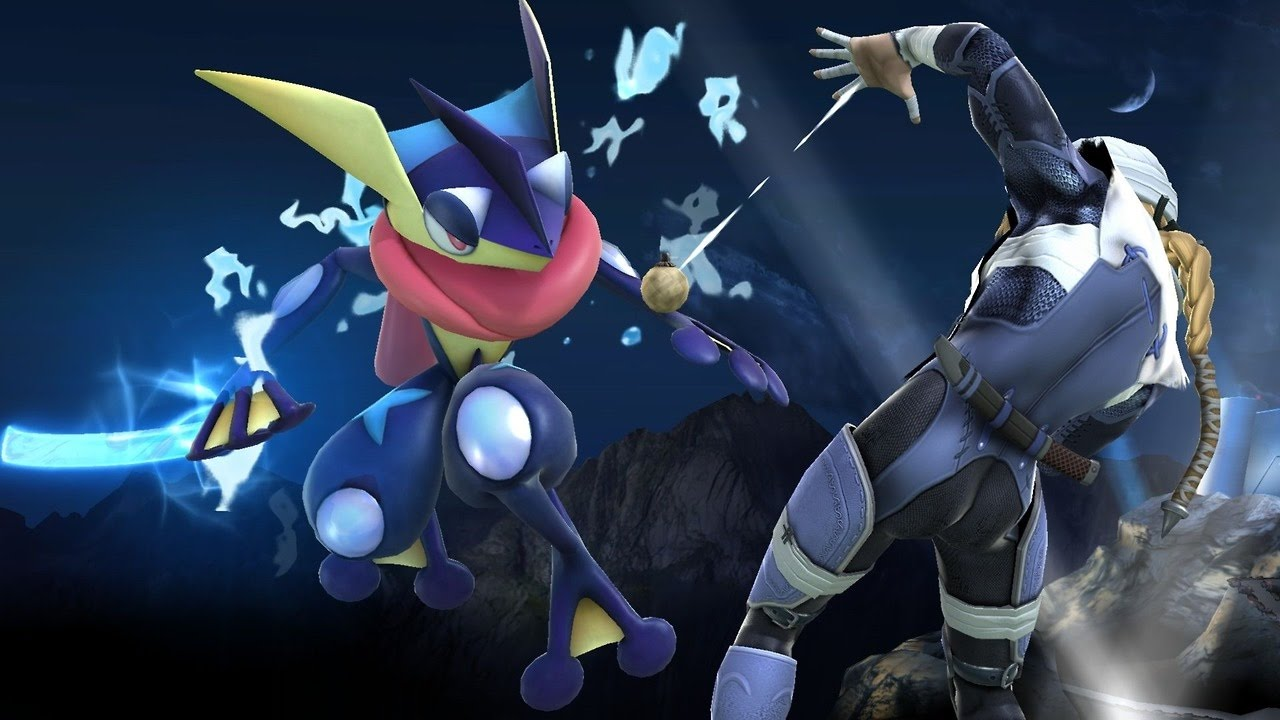greninja: (166, 19, 794, 706)
